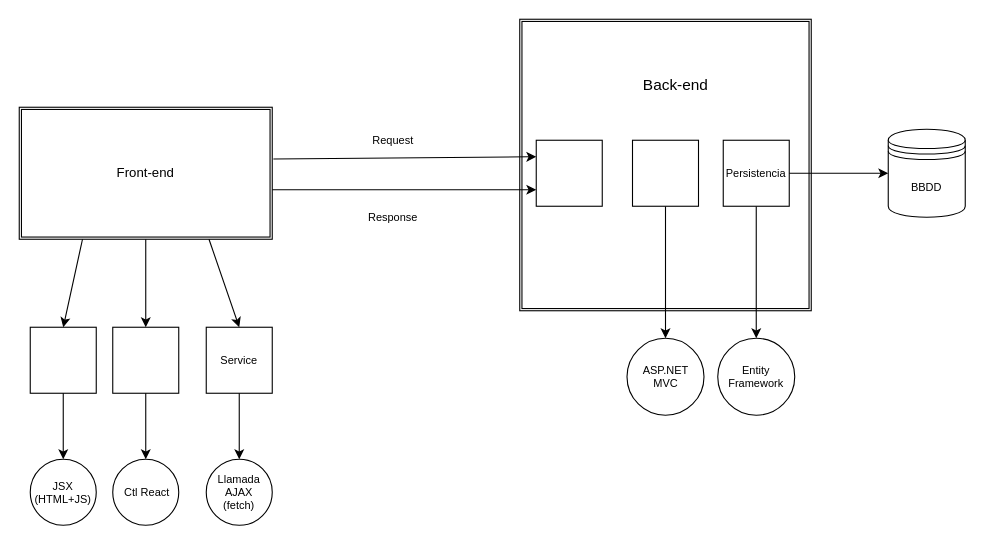
Image size: 985x545. Some labels were removed from this diagram. The shapes that lost their labels are listed below. From the top down, each one's centre as x and y in pixels, then its label:
the point at 568,172: API REST
the point at 664,172: Lógica
the point at 62,359: View
the point at 145,359: Ctrl
